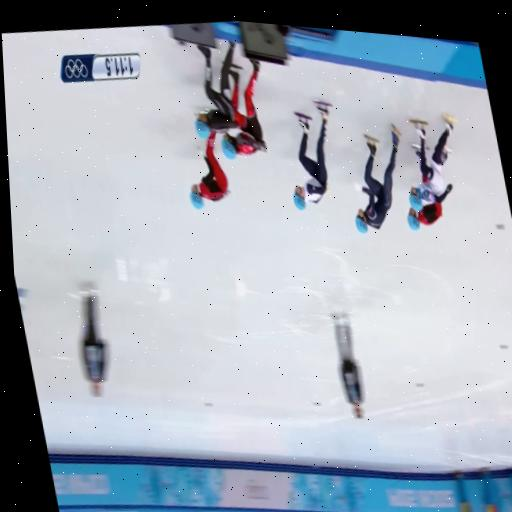Skater: (355, 125, 400, 232), (220, 58, 265, 158), (408, 114, 454, 210), (194, 41, 236, 138), (293, 100, 330, 209), (189, 132, 227, 208), (406, 183, 452, 230)
